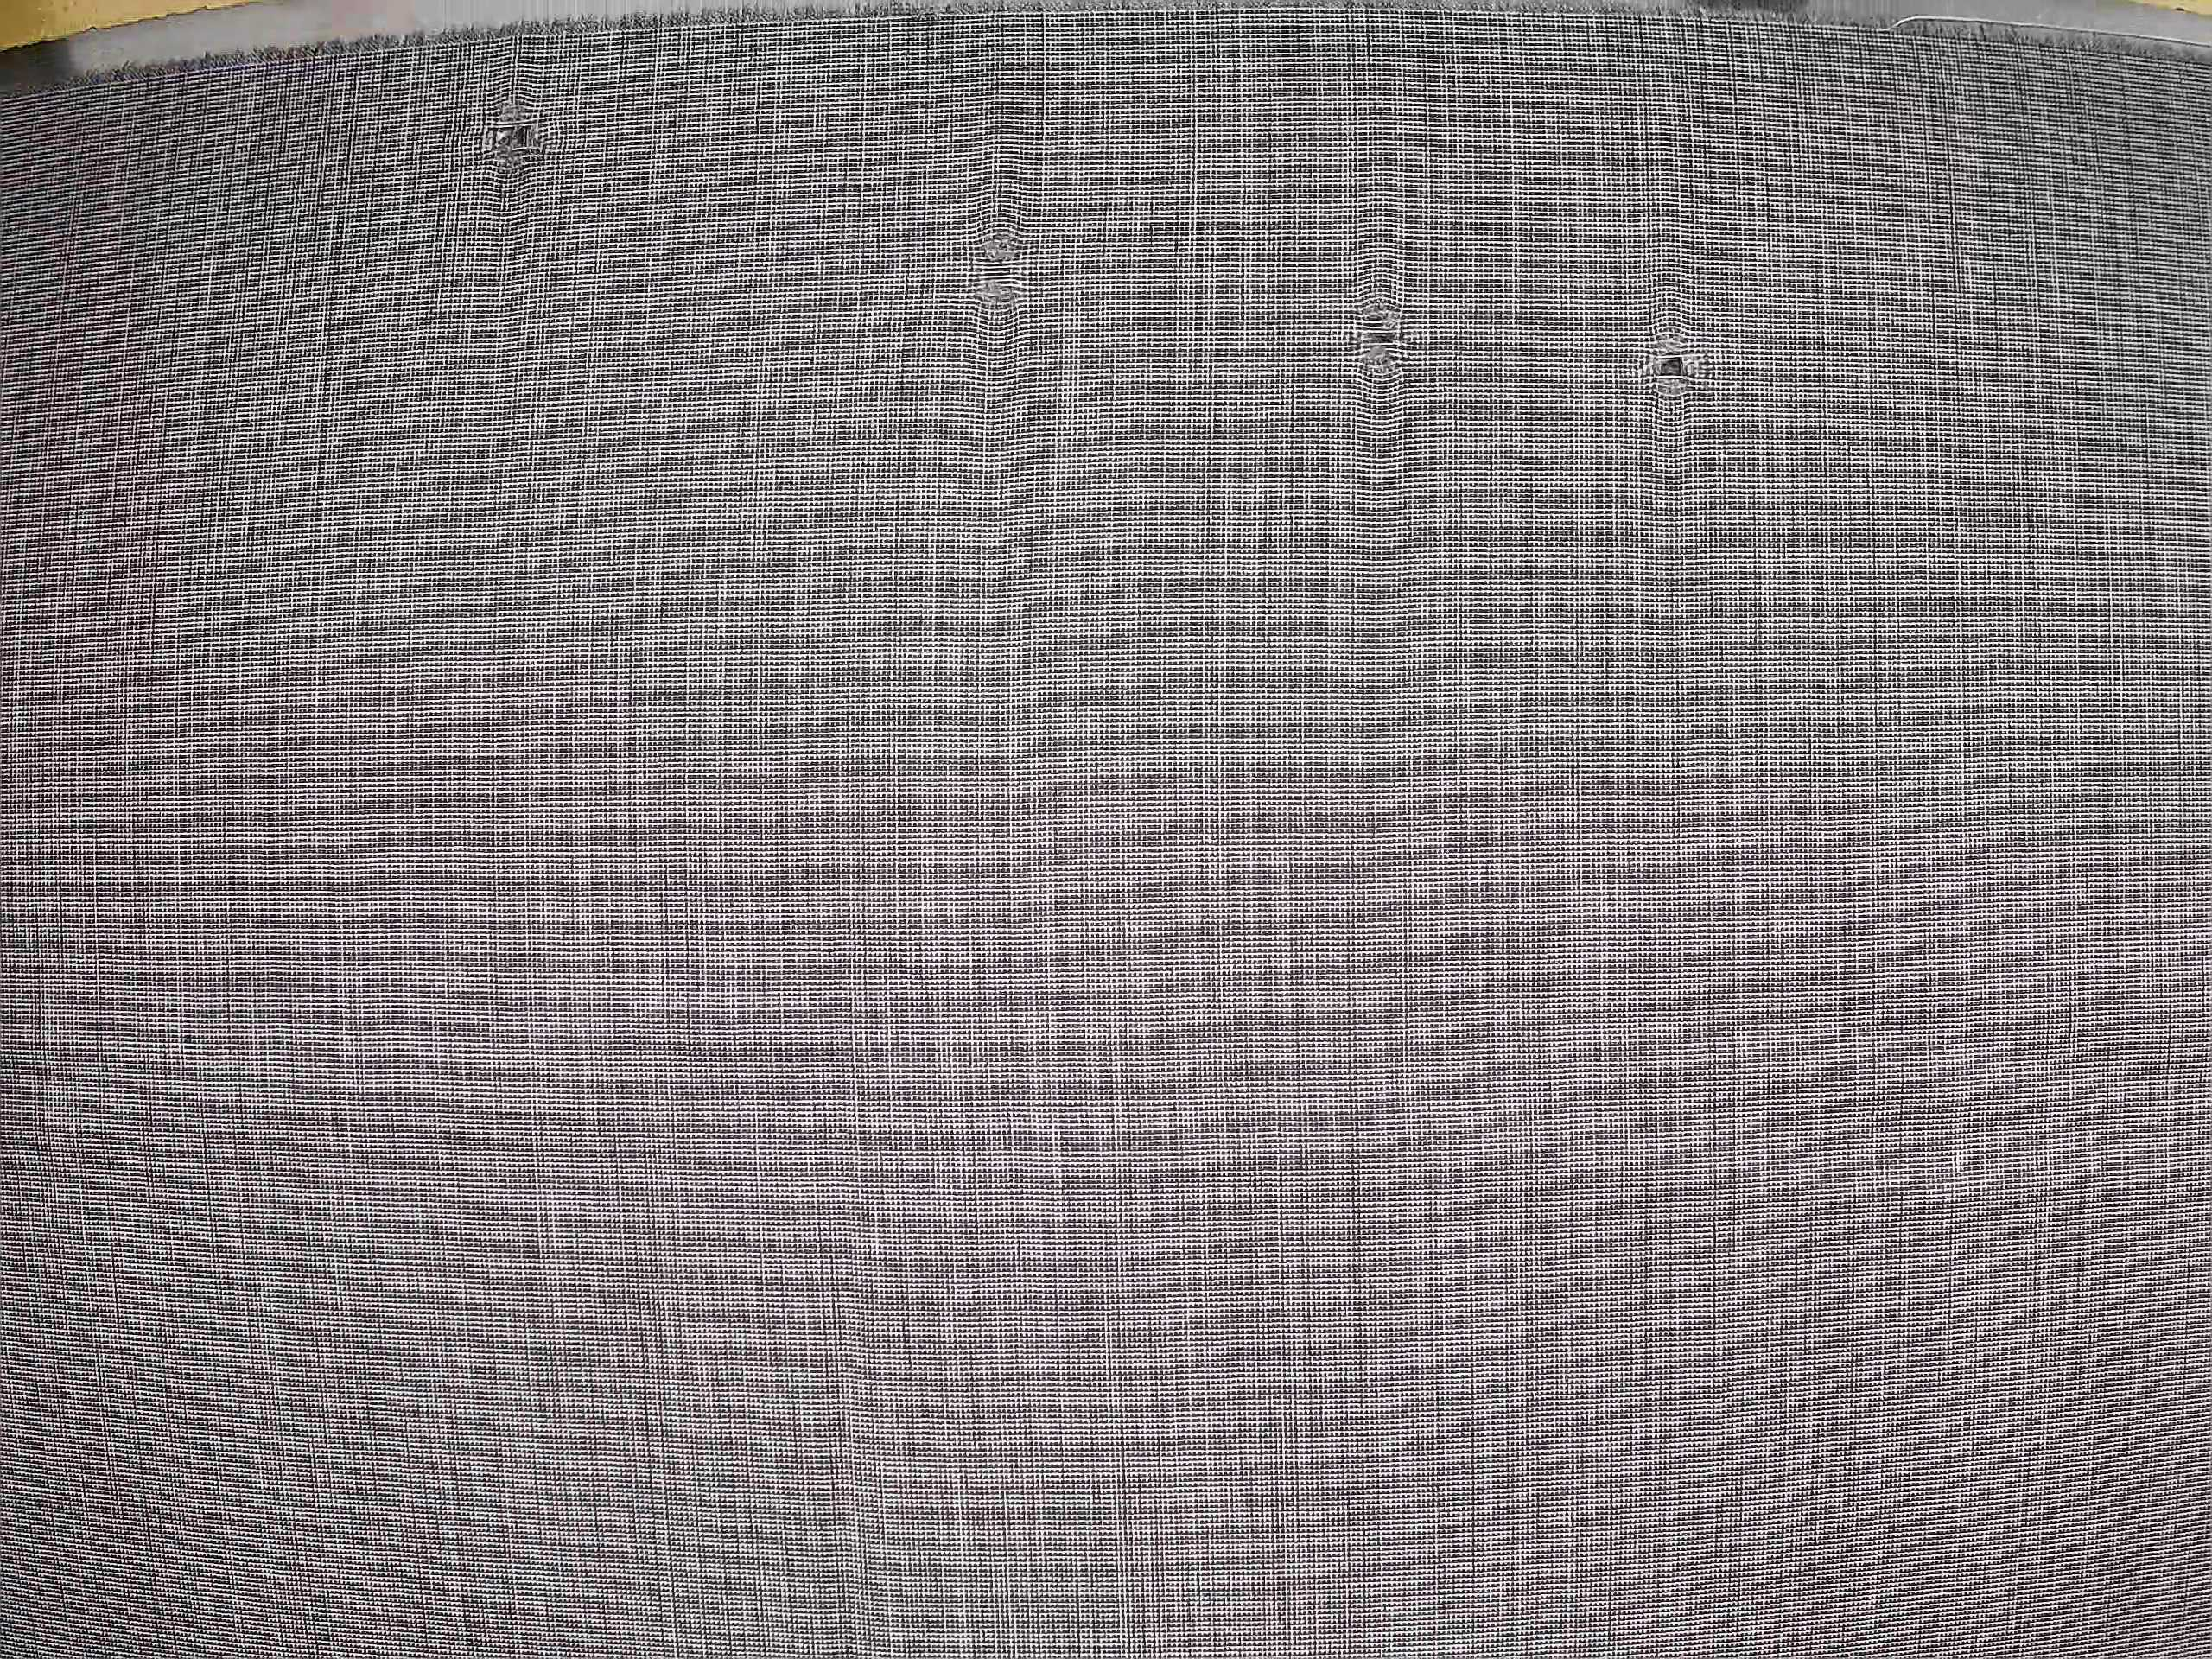puncture-hole: (1332, 261, 1440, 401), (963, 176, 1049, 347), (463, 85, 570, 195), (1616, 317, 1730, 420)
